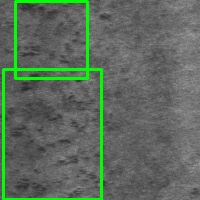rolled-in_scale: (3, 69, 101, 199), (15, 1, 87, 78)
